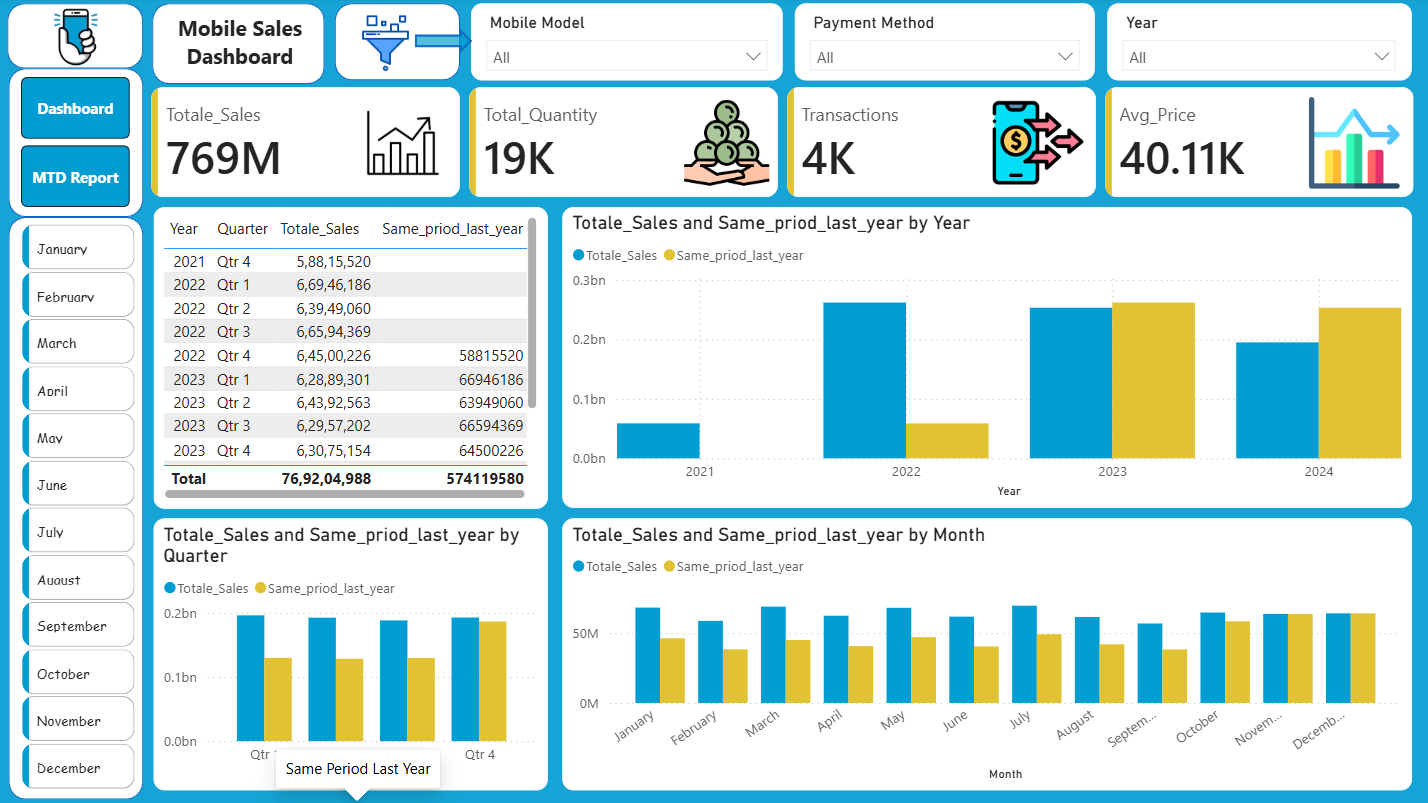

The page's visual inventory and layout, read from the dashboard file:
{"tool":"powerbi","page":{"name":"Same Period Last Year","canvas":[1280,720],"ordinal":2},"visuals":[{"type":"shape","box":[10.5,5.8,120.9,58.1],"z":0},{"type":"image","box":[11.6,5.8,119.8,64],"z":1000},{"type":"shape","box":[11.2,63.8,120,132.5],"z":2000},{"type":"cardVisual","fields":{"Data":["Sales_data.Totale_Sales","Sales_data.Total_Quantity","Sales_data.Transactions","Sales_data.Avg_Price"]},"box":[121.2,63.8,1158.8,132.5],"z":3000},{"type":"image","box":[311.2,88.8,101.2,81.2],"z":4000},{"type":"image","box":[600,88.8,101.2,81.2],"z":5000},{"type":"image","box":[877.5,88.8,101.2,81.2],"z":6000},{"type":"image","box":[1158.8,88.8,101.2,81.2],"z":7000},{"type":"slicer","fields":{"Values":["Sales_data.Mobile Model"]},"box":[423.3,5.8,277.9,68.6],"z":8000},{"type":"slicer","fields":{"Values":["Sales_data.Payment Method"]},"box":[711.6,5.8,267.4,68.6],"z":9000},{"type":"slicer","fields":{"Values":["Custom_Calender.Date.Variation.Date Hierarchy.Year"]},"box":[989.5,5.8,270.9,68.6],"z":10000},{"type":"shape","box":[301.2,5.8,111.6,68.6],"z":11000},{"type":"image","box":[311.6,15.1,69.8,51.2],"z":12000},{"type":"shape","box":[372.5,27.5,51.2,22.5],"z":13000},{"type":"shape","box":[139.5,5.8,153.5,72.1],"z":14000},{"type":"textbox","box":[148.8,10.5,136,62.8],"z":15000},{"type":"shape","box":[11.2,196.2,120,518.8],"z":17000},{"type":"advancedSlicerVisual","fields":{"Values":["Custom_Calender.Date.Variation.Date Hierarchy.Month"]},"box":[23.8,202.5,100,503.8],"z":18000},{"type":"tableEx","fields":{"Values":["Custom_Calender.Date.Variation.Date Hierarchy.Year","Custom_Calender.Date.Variation.Date Hierarchy.Quarter","Sales_data.Totale_Sales","Sales_data.Same_priod_last_year"]},"box":[139.9,187,351.1,269],"z":19000},{"type":"clusteredColumnChart","fields":{"Category":["Custom_Calender.Date.Variation.Date Hierarchy.Year","Custom_Calender.Date.Variation.Date Hierarchy.Quarter"],"Y":["Sales_data.Totale_Sales","Sales_data.Same_priod_last_year"]},"box":[504.3,187,756.4,267.8],"z":20000},{"type":"clusteredColumnChart","fields":{"Y":["Sales_data.Totale_Sales","Sales_data.Same_priod_last_year"],"Category":["Custom_Calender.Date.Variation.Date Hierarchy.Quarter"]},"box":[139.9,464.5,351.1,242.5],"z":20001},{"type":"clusteredColumnChart","fields":{"Y":["Sales_data.Totale_Sales","Sales_data.Same_priod_last_year"],"Category":["Custom_Calender.Date.Variation.Date Hierarchy.Month","Custom_Calender.Date.Variation.Date Hierarchy.Day"]},"box":[504.3,464.5,756.4,242.5],"z":20002},{"type":"pageNavigator","box":[21.7,71.2,97.7,117],"z":20003}]}

Visuals, with their boxes in screenshot pixels (x1, y1, x2, y2), scaled from the page's 1280x720 canvas onto the 1428x803 screenshot:
shape: 12:6:147:71
image: 13:6:147:78
shape: 12:71:146:219
cardVisual - Sales_data.Totale_Sales x Sales_data.Total_Quantity: 135:71:1427:219
image: 347:99:460:190
image: 669:99:782:190
image: 979:99:1092:190
image: 1293:99:1406:190
slicer - Sales_data.Mobile Model: 472:6:782:83
slicer - Sales_data.Payment Method: 794:6:1092:83
slicer - Custom_Calender.Date.Variation.Date Hierarchy.Year: 1104:6:1406:83
shape: 336:6:461:83
image: 348:17:425:74
shape: 416:31:473:56
shape: 156:6:327:87
textbox: 166:12:318:82
shape: 12:219:146:797
advancedSlicerVisual - Custom_Calender.Date.Variation.Date Hierarchy.Month: 27:226:138:788
tableEx - Custom_Calender.Date.Variation.Date Hierarchy.Year x Custom_Calender.Date.Variation.Date Hierarchy.Quarter: 156:209:548:509
clusteredColumnChart - Custom_Calender.Date.Variation.Date Hierarchy.Year x Custom_Calender.Date.Variation.Date Hierarchy.Quarter: 563:209:1406:507
clusteredColumnChart - Sales_data.Totale_Sales x Sales_data.Same_priod_last_year: 156:518:548:789
clusteredColumnChart - Sales_data.Totale_Sales x Sales_data.Same_priod_last_year: 563:518:1406:789
pageNavigator: 24:79:133:210
